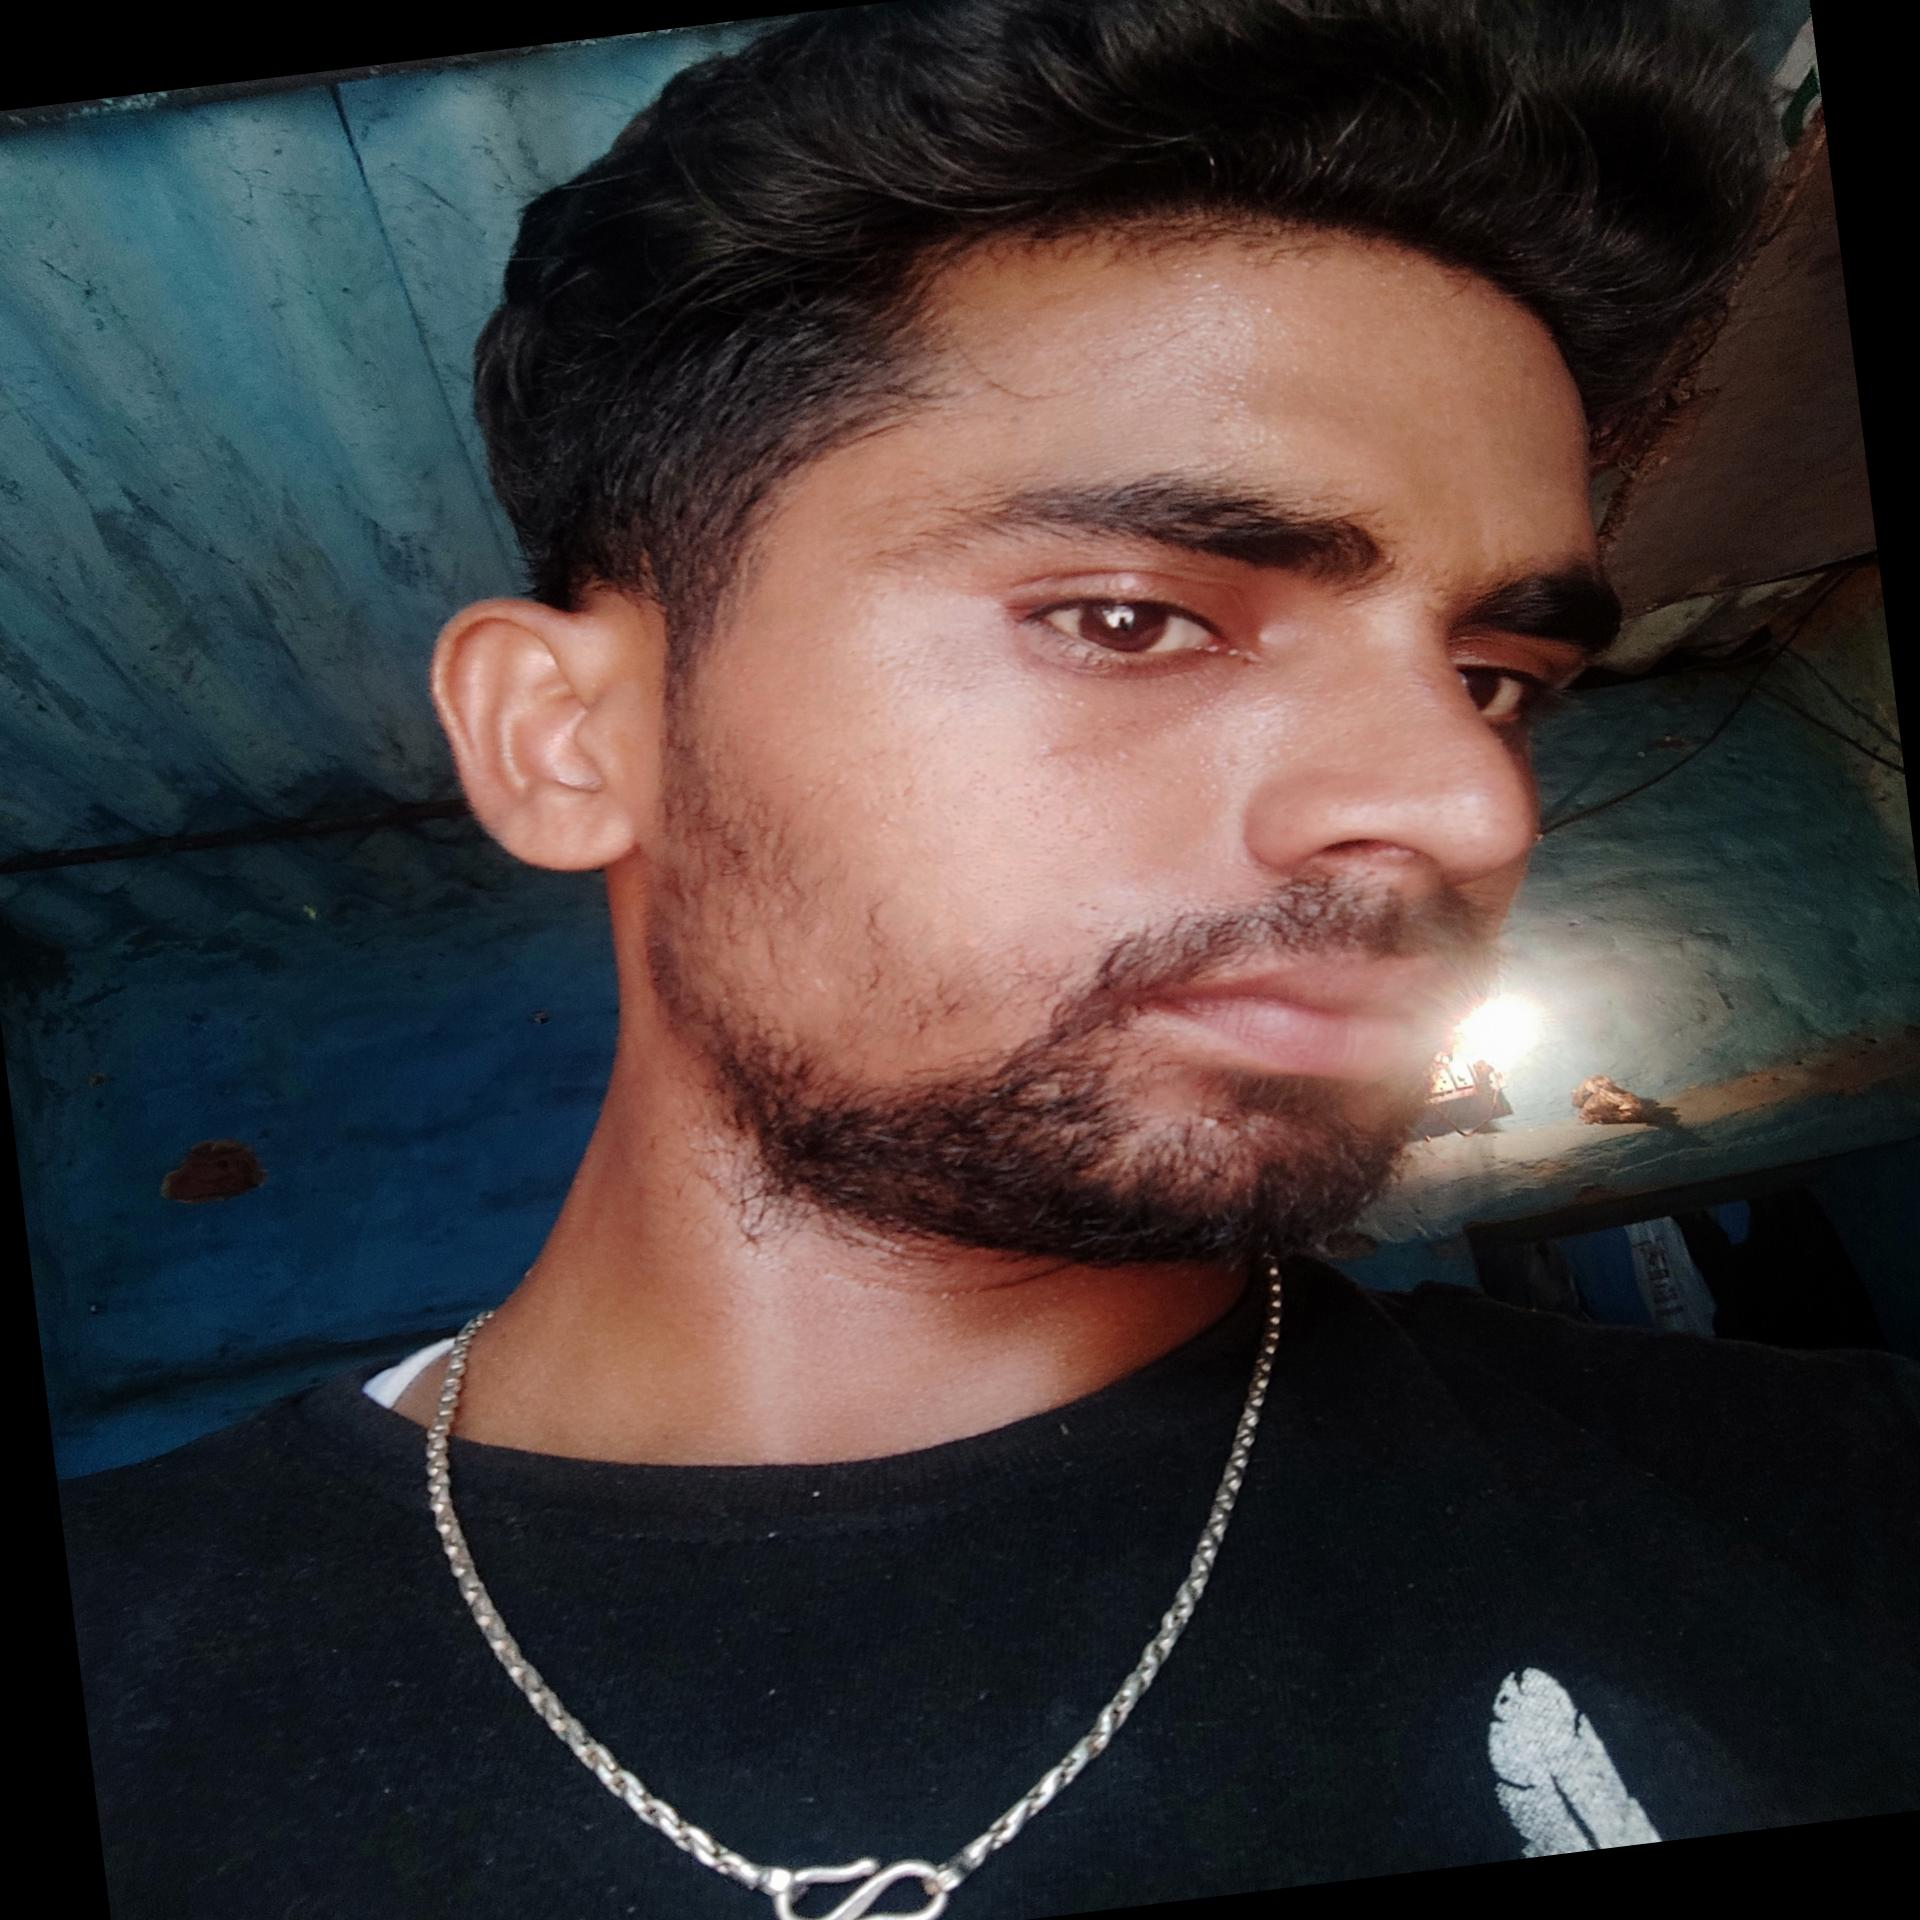Acne: (1027, 735, 1115, 798), (1176, 262, 1243, 308), (1196, 730, 1240, 786), (1268, 299, 1291, 324)
